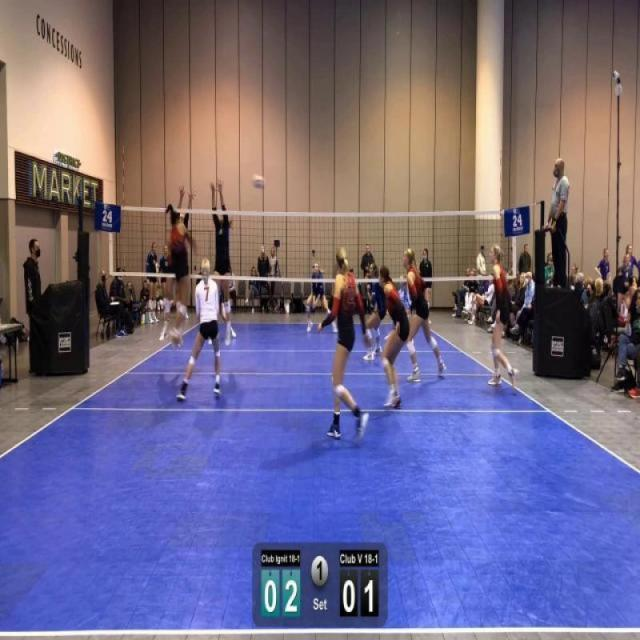volleyball: (250, 172, 266, 192)
